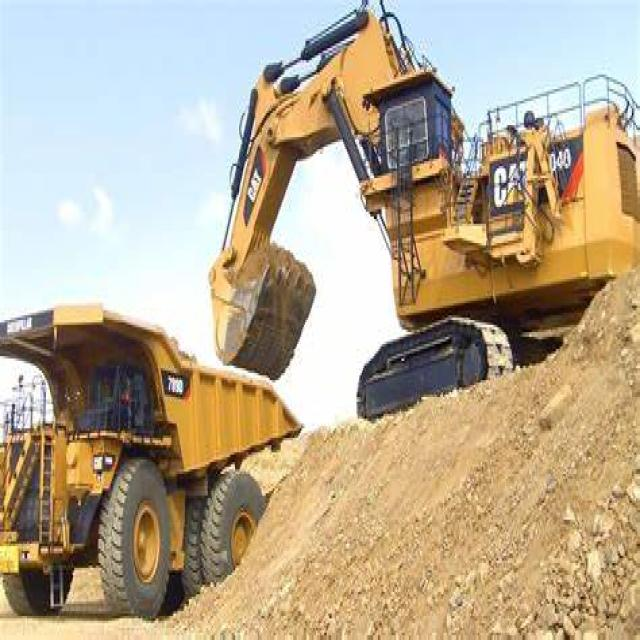dump_truck: (1, 294, 305, 635)
